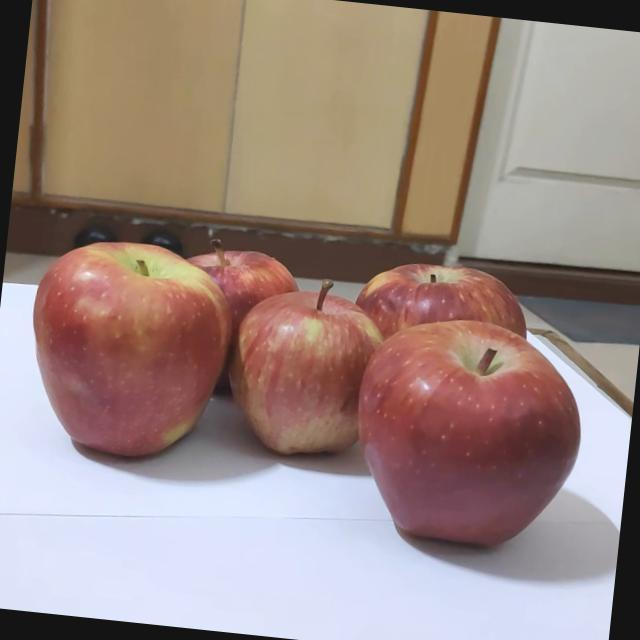apple: (294, 340, 550, 610), (364, 253, 578, 460), (27, 256, 232, 468), (206, 294, 389, 478), (194, 232, 349, 384)
